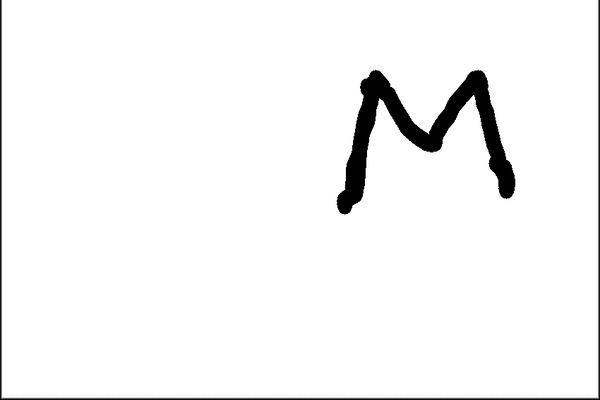M: (329, 59, 516, 208)
